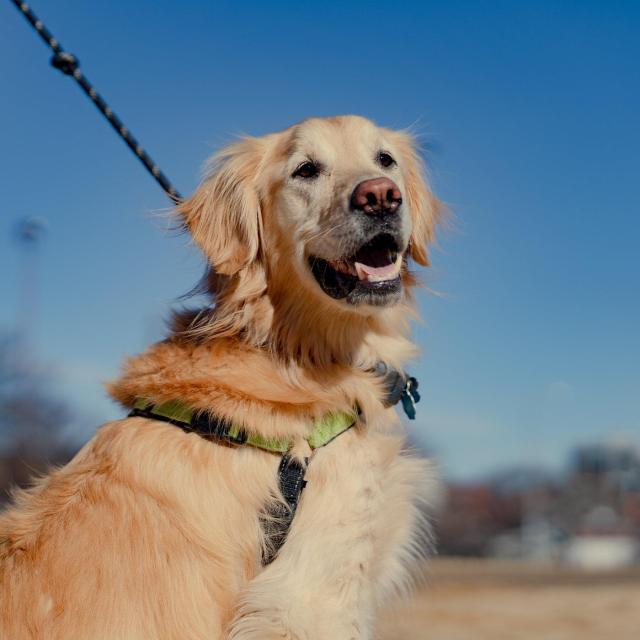Dog: (80, 56, 477, 557)
